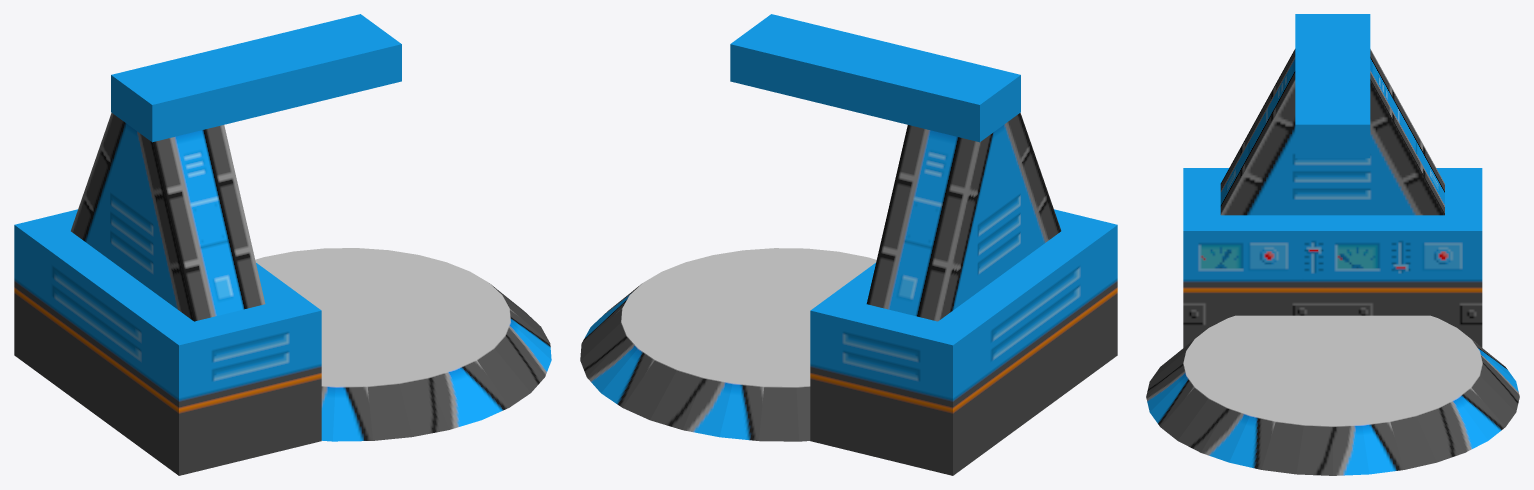
The model's file is convert1.obj.
The picture shows the model from 3 angles, left to right: view 1: azimuth 30°, elevation 25°; view 2: azimuth 150°, elevation 25°; view 3: azimuth 270°, elevation 25°; orthographic projection. The views are drawn at different scales.
Visible parts, largest first — view 1: Case_ColobotMesh_, Platform_new_Circle; view 2: Case_ColobotMesh_, Platform_new_Circle; view 3: Case_ColobotMesh_, Platform_new_Circle.
Part boxes in pixels (x1=…): Case_ColobotMesh_: x1=14, y1=14, x2=401, y2=475; Platform_new_Circle: x1=255, y1=248, x2=551, y2=441; Case_ColobotMesh_: x1=730, y1=14, x2=1117, y2=475; Platform_new_Circle: x1=580, y1=248, x2=876, y2=441; Case_ColobotMesh_: x1=1183, y1=14, x2=1482, y2=347; Platform_new_Circle: x1=1146, y1=315, x2=1519, y2=475.
Size of the model in its own units: 24 by 17 by 20.
